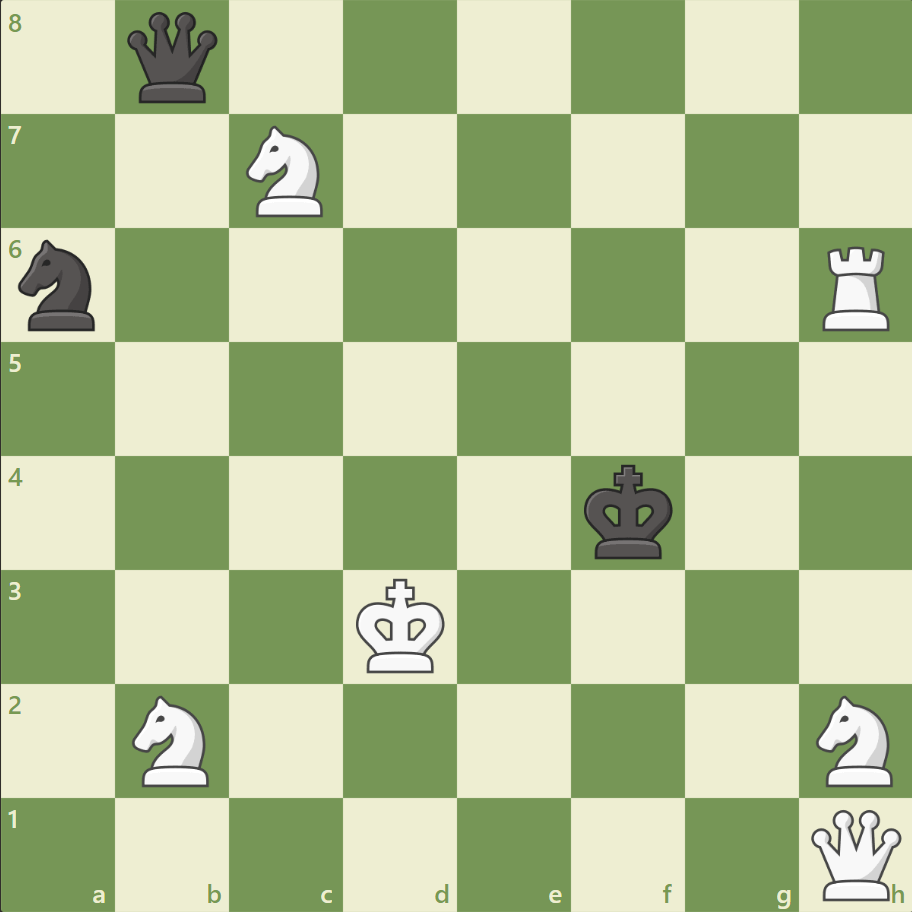K: (351, 571, 451, 679)
N: (124, 688, 222, 791), (806, 688, 903, 791), (238, 121, 335, 223)
Q: (805, 804, 904, 903)
R: (814, 239, 897, 336)
k: (579, 458, 679, 566)
n: (11, 234, 108, 337)
q: (124, 9, 223, 108)
